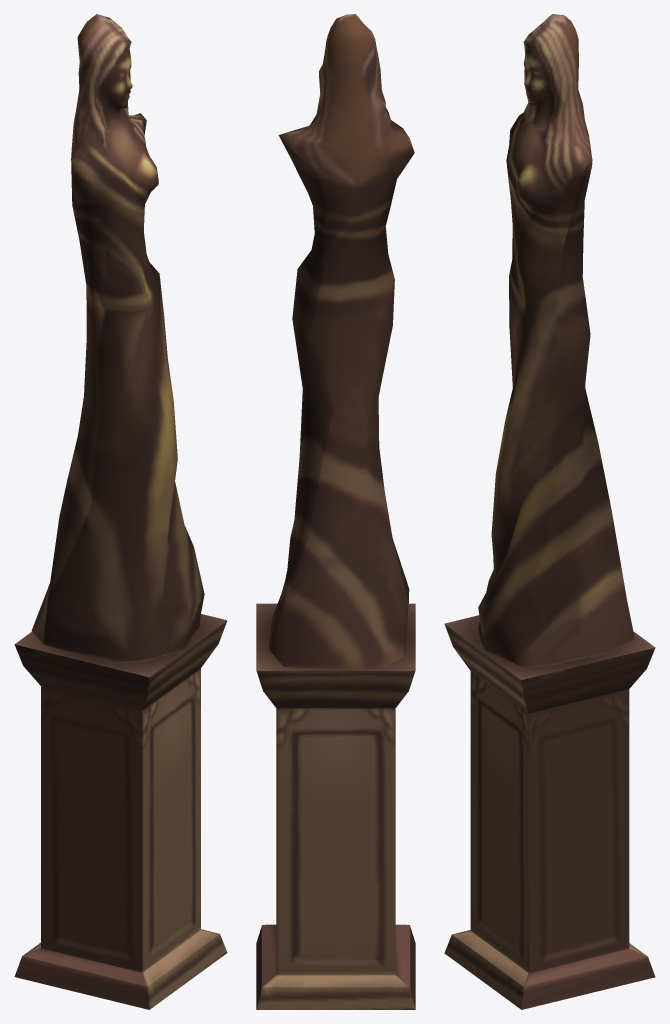
Rendered from SiWangPenQuan_01_diaosu_01.FBX.
The picture shows the model from 3 angles, left to right: view 1: azimuth 30°, elevation 25°; view 2: azimuth 150°, elevation 25°; view 3: azimuth 270°, elevation 25°; orthographic projection. The views are drawn at different scales.
Parts seen in each view (by area): view 1: SiWangPenQuan_01_diaosu_01; view 2: SiWangPenQuan_01_diaosu_01; view 3: SiWangPenQuan_01_diaosu_01.
Boxes of the visible parts, x1,y1,x2,y2 form: SiWangPenQuan_01_diaosu_01: (14,14,227,1009); SiWangPenQuan_01_diaosu_01: (256,14,415,1009); SiWangPenQuan_01_diaosu_01: (444,14,655,1009).
Bounding box in the file's own units: 59.84 × 294 × 59.84.
